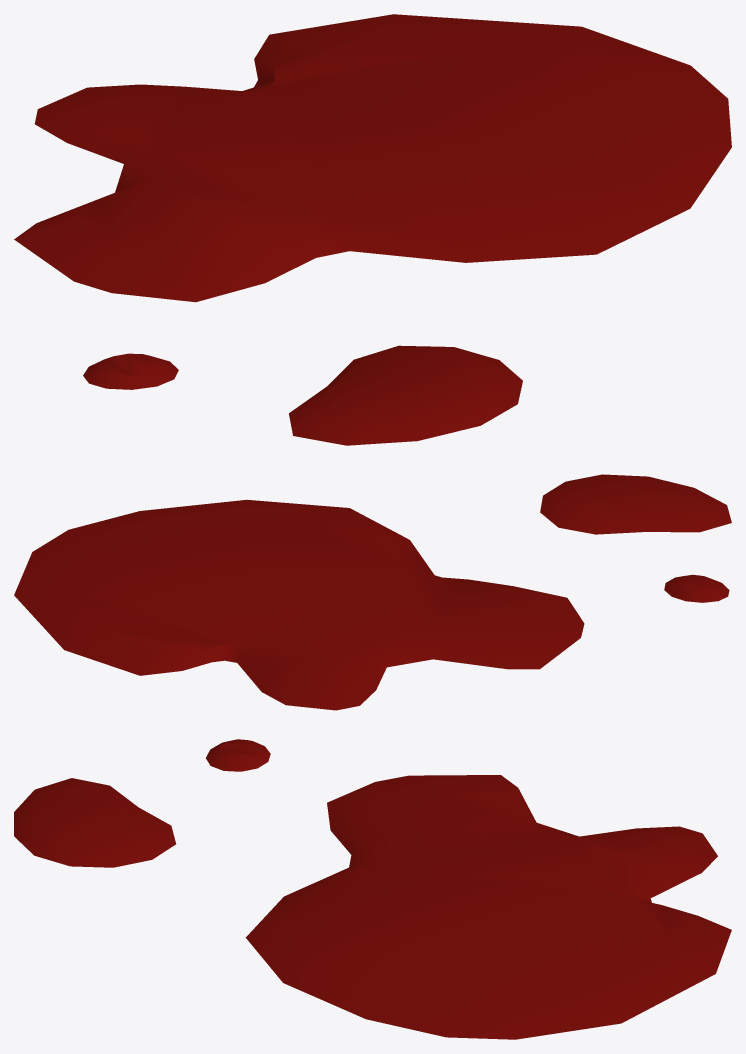
Rendered from Sangue.fbx.
3 renders of one model, top to bottom at view 1: azimuth 30°, elevation 25°; view 2: azimuth 150°, elevation 25°; view 3: azimuth 270°, elevation 25°, orthographic. The views are drawn at different scales.
Parts seen in each view (by area): view 1: Sangue; view 2: Sangue; view 3: Sangue.
Part boxes in pixels (x1,y1,x2,y2): Sangue: (14, 14, 731, 445); Sangue: (14, 474, 731, 710); Sangue: (14, 739, 731, 1039).
Size of the model in its own units: 225 by 3.28 by 227.
